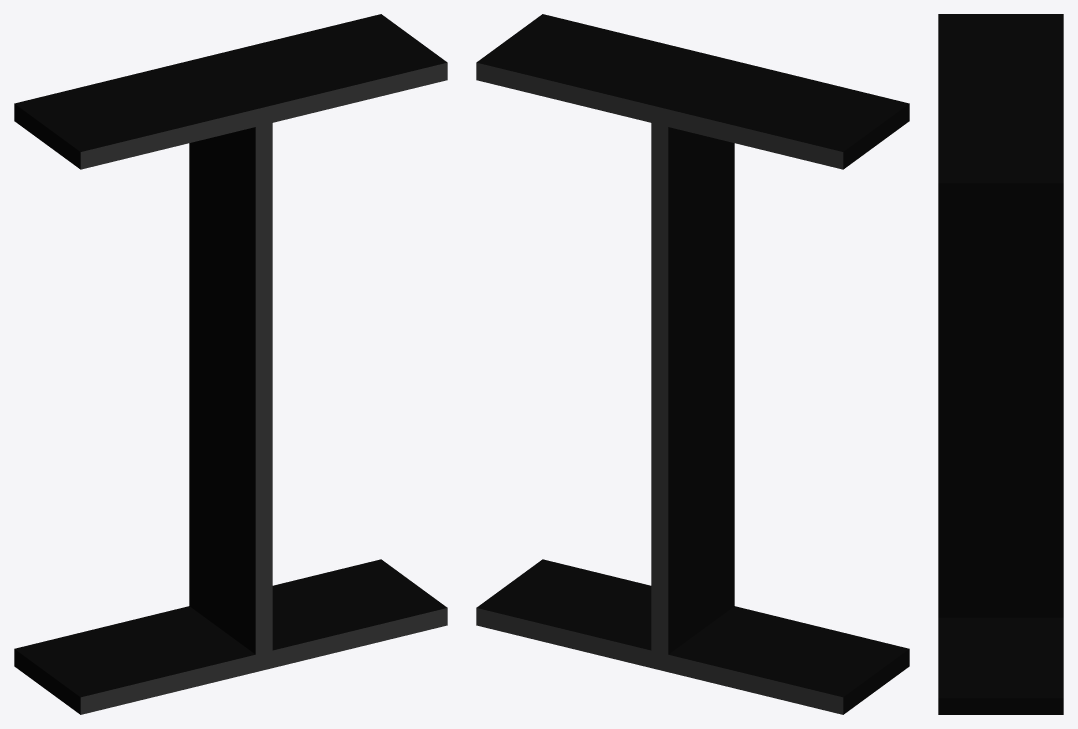
Rendered from 9c697d3e-b62f-4247-a839-0423dedaa4dc.glb.
3 renders of one model, left to right at view 1: azimuth 30°, elevation 25°; view 2: azimuth 150°, elevation 25°; view 3: azimuth 270°, elevation 25°, orthographic. The views are drawn at different scales.
Visible parts, largest first — view 1: i_AlphaProta_Black; view 2: i_AlphaProta_Black; view 3: i_AlphaProta_Black.
Boxes of the visible parts, left/top/right/bottom form: i_AlphaProta_Black: left=14, top=14, right=447, bottom=714; i_AlphaProta_Black: left=476, top=14, right=909, bottom=714; i_AlphaProta_Black: left=938, top=14, right=1063, bottom=714.
Size of what is drawn, in the model's own units: 0.1436 by 0.2105 by 0.045.
2 materials, 2 textured.
